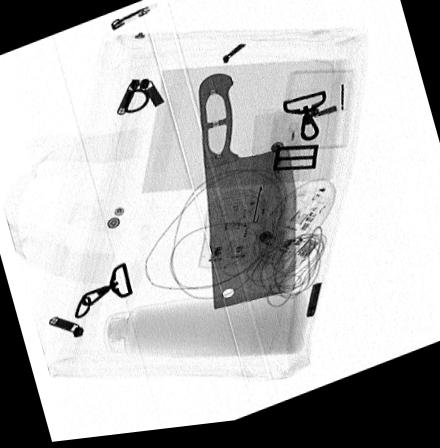Knife: (197, 78, 297, 316)
